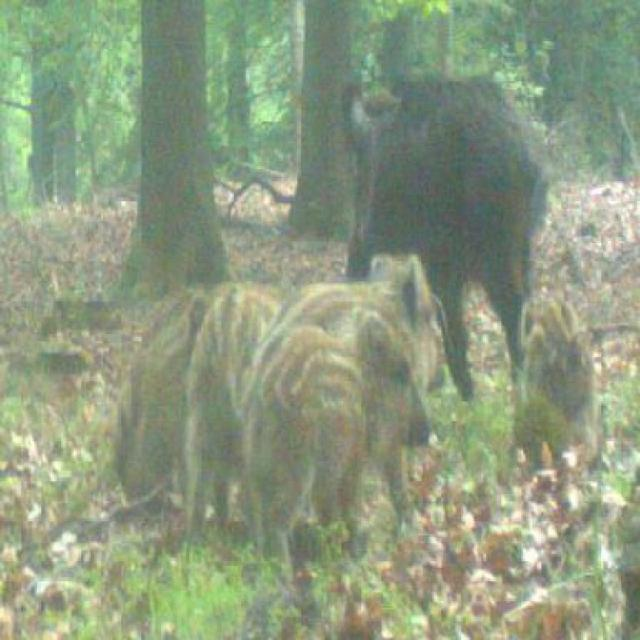Boar: (326, 51, 548, 338), (250, 349, 456, 563), (102, 272, 204, 511), (338, 257, 468, 408)
